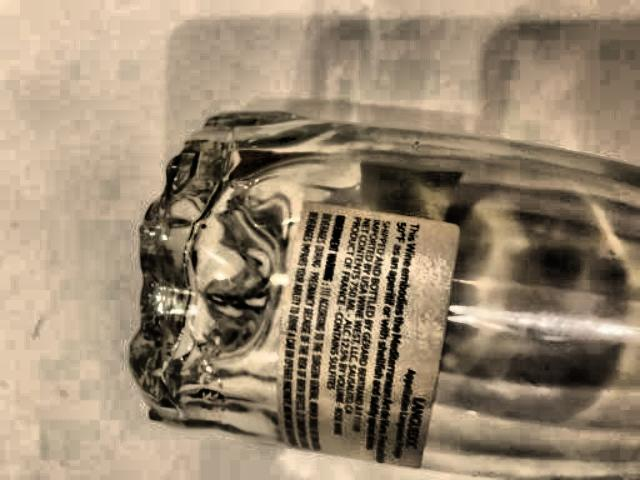Bottles: (105, 97, 640, 480)
